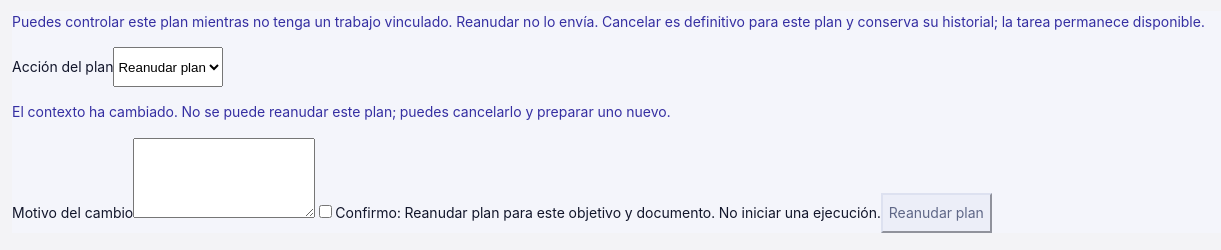
Test: prevents resume of a stale plan but still permits explicit cancellation
Type "Necesitamos revisar el objetivo primero" into the text box labelled "Motivo del cambio".
click(224, 178); type("Necesitamos revisar el objetivo primero")  # box [133,138,315,218]
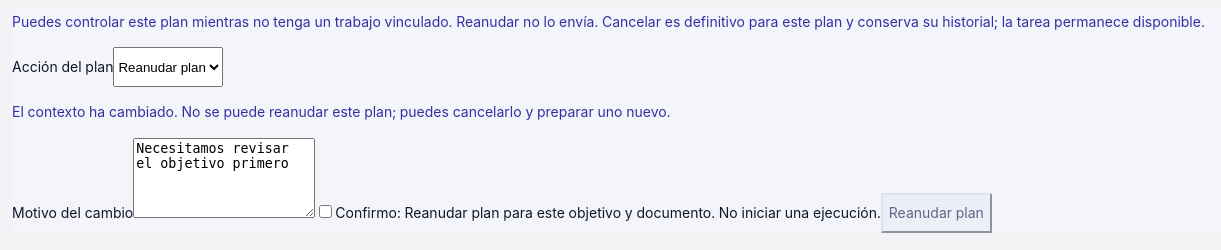
Click the checkbox.
click(326, 211)  # box [319,205,332,218]
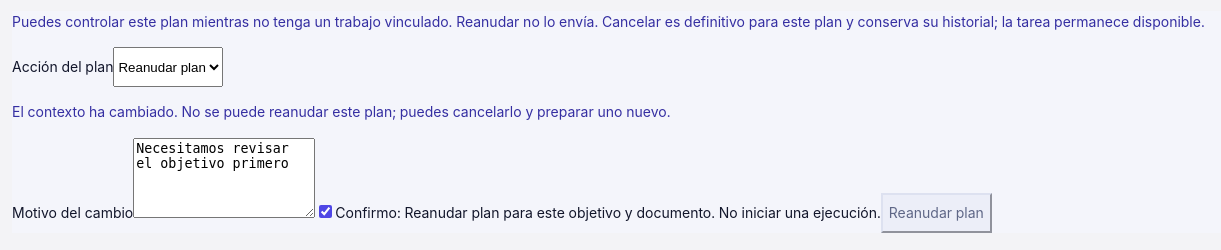
Expected: the button "Reanudar plan" is disabled, [881,193,992,233]
Select "Cancelar plan" in the dropdown labelled "Acción del plan" at (168, 67), box [114,47,224,87]
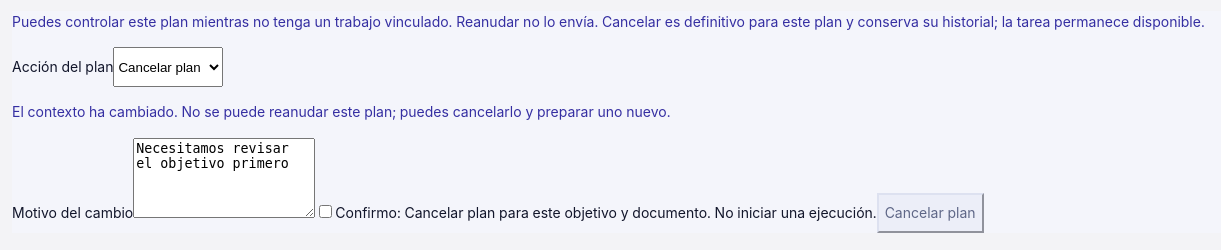
Click the checkbox.
click(326, 211)  # box [319,205,332,218]
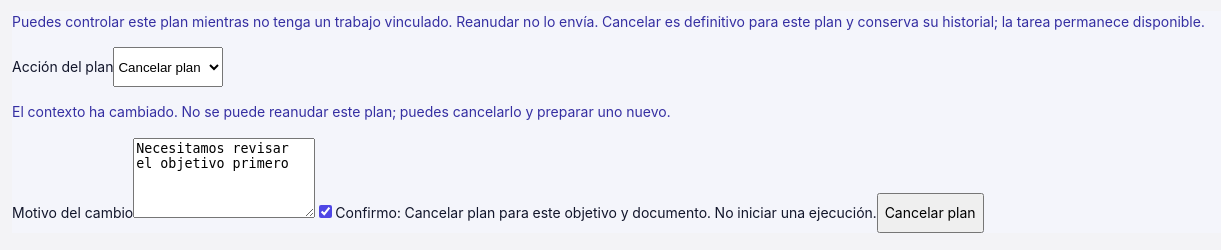
Expected: the button "Cancelar plan" is enabled, [877,193,984,233]
